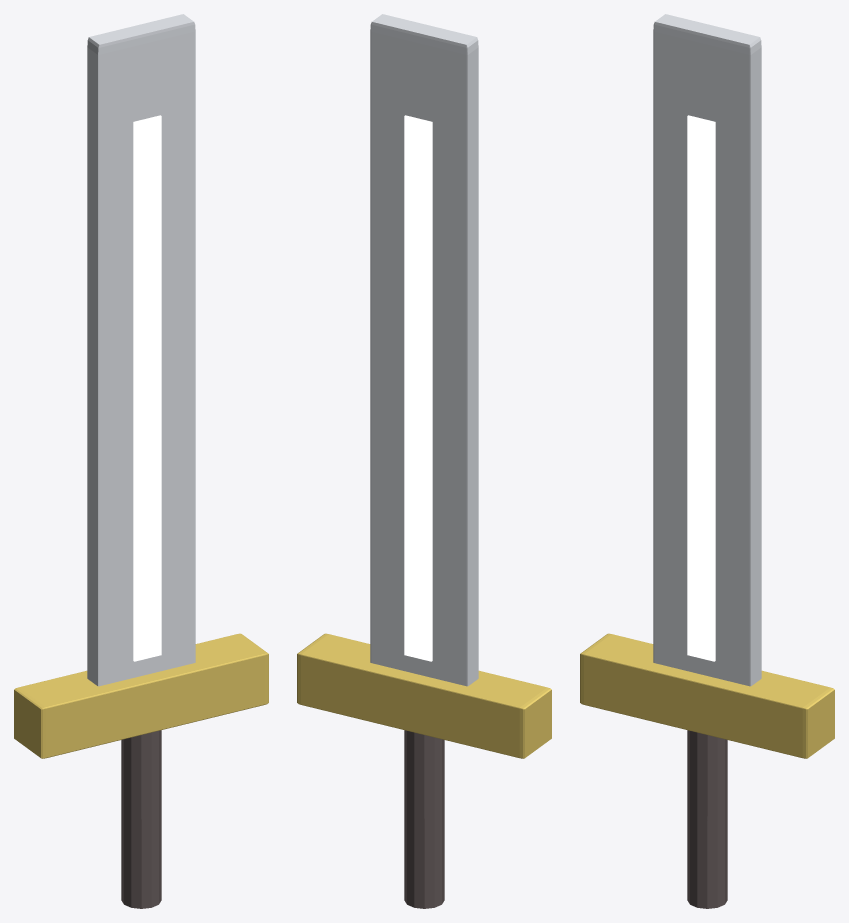
The model's file is weapon_greatsword.fbx.
3 renders of one model, left to right at view 1: azimuth 30°, elevation 25°; view 2: azimuth 150°, elevation 25°; view 3: azimuth 330°, elevation 25°, orthographic.
Visible parts, largest first — view 1: SwordBlade, CrossGuard, BladeCore, SwordGrip; view 2: SwordBlade, CrossGuard, BladeCore, SwordGrip; view 3: SwordBlade, CrossGuard, BladeCore, SwordGrip.
Part boxes in pixels (left/top/right/bottom): SwordBlade: left=87, top=14, right=195, bottom=686; CrossGuard: left=14, top=633, right=268, bottom=758; BladeCore: left=133, top=115, right=161, bottom=661; SwordGrip: left=121, top=730, right=161, bottom=908; SwordBlade: left=370, top=14, right=478, bottom=686; CrossGuard: left=297, top=633, right=551, bottom=758; BladeCore: left=404, top=115, right=432, bottom=661; SwordGrip: left=404, top=730, right=444, bottom=908; SwordBlade: left=653, top=14, right=761, bottom=686; CrossGuard: left=580, top=633, right=834, bottom=758; BladeCore: left=687, top=115, right=715, bottom=661; SwordGrip: left=687, top=730, right=727, bottom=908.
Bounding box in the file's own units: 0.42 × 1.53 × 0.09.
